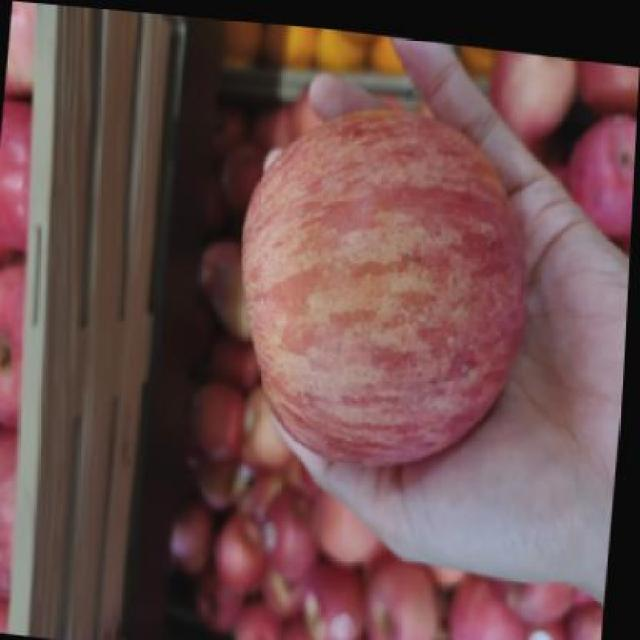Fresh Apple: (228, 101, 526, 465)
